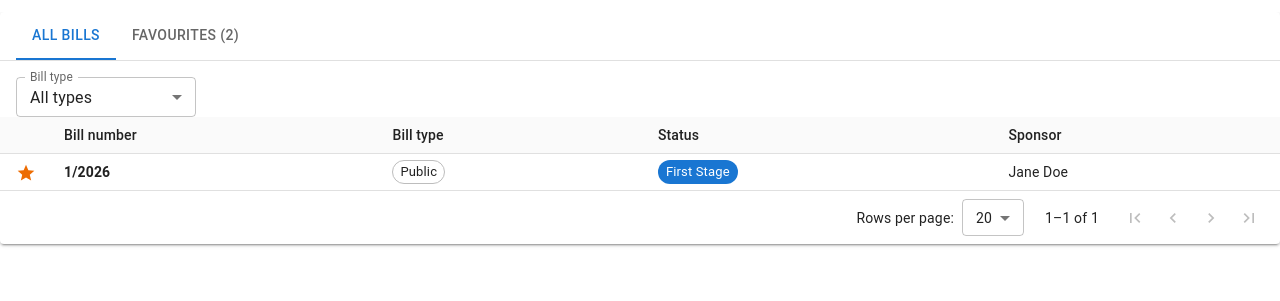
Test: BillsTable › tabs and favourites › filters favourites client-side by the selected type
The width and height of the screenshot is (1280, 301).
What coordinates should you click on to do the following:
click the tab "Favourites (2)"
I would click on:
 (186, 36)
Its box is [116,12,255,60].
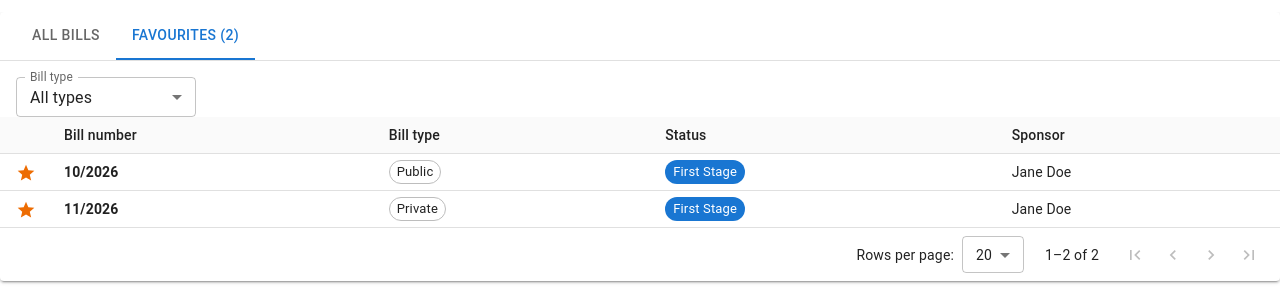
expect the text "10/2026" is shown: met, box [64,164,118,180]
expect the text "11/2026" is shown: met, box [64,201,118,217]
What coordinates should you click on to do the following:
click the dropdown named "bill type"
I would click on:
 (61, 97)
Its box is [30,88,92,106].
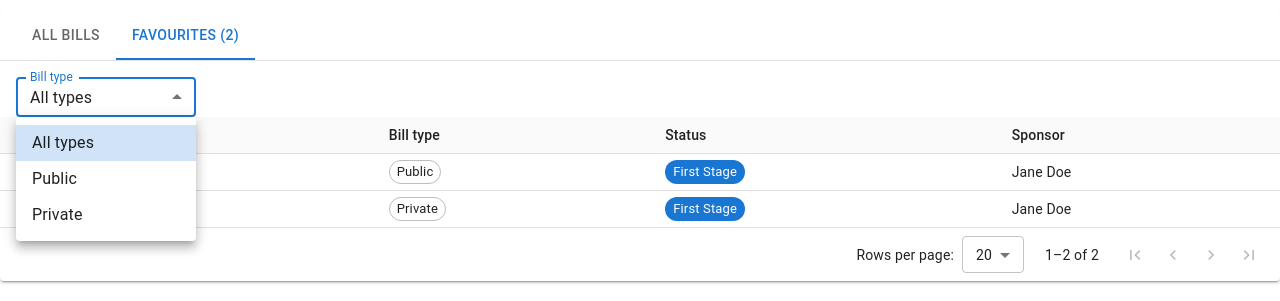
What coordinates should you click on to do the following:
click the option "Public"
I would click on:
 (54, 178)
Its box is [32,169,77,188].
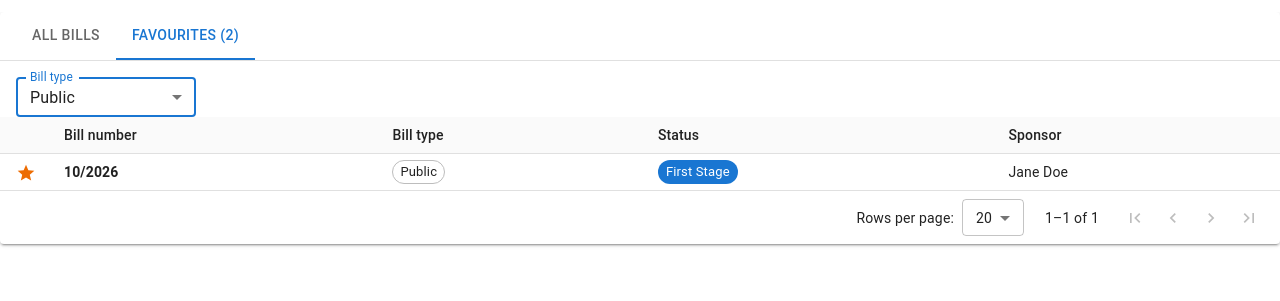
expect the text "10/2026" is shown: met, box [64,164,118,180]
expect the text "11/2026" is gone: met
